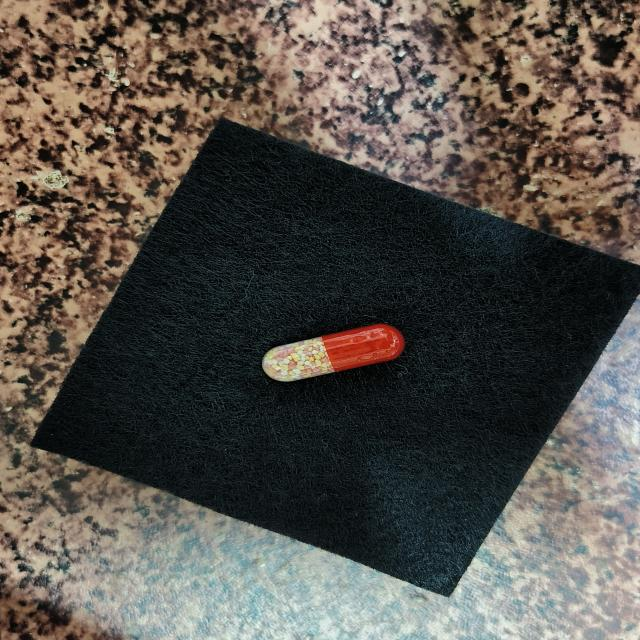Intact Capsule: (262, 324, 405, 382)
